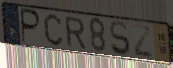8: (89, 17, 107, 54)
C: (43, 13, 64, 47)
P: (21, 7, 43, 45)
R: (64, 16, 87, 50)
S: (108, 20, 132, 58)
Z: (130, 23, 154, 60)
